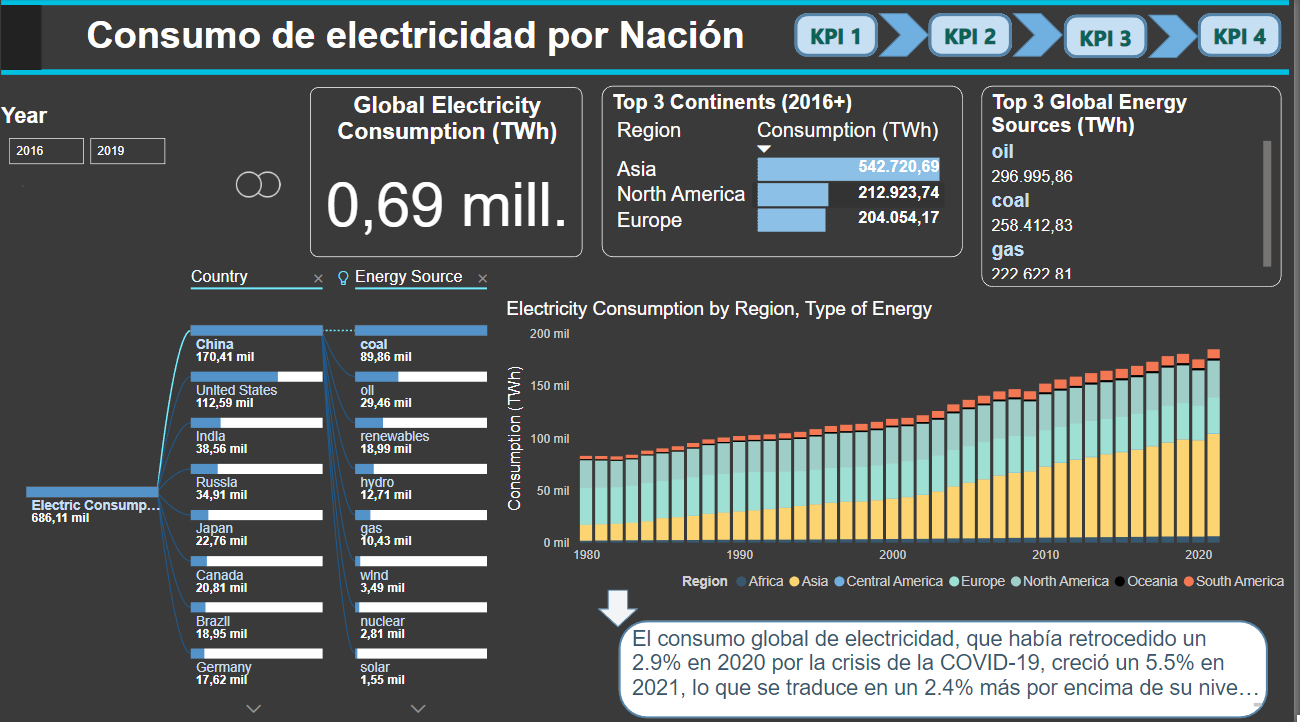

Layout of this report page (visuals, bound fields, positions):
{"tool":"powerbi","page":{"name":"OBJ4","canvas":[1280,720],"ordinal":5},"visuals":[{"type":"image","box":[0,0,1280.3,84],"z":0},{"type":"shape","box":[614,616.7,640.2,96.4],"z":1000},{"type":"decompositionTreeVisual","fields":{"Analyze":["Sum(source_country_electricity.consumptionElectricity)"],"ExplainBy":["country.country","source_energy.source"]},"box":[0,253.7,530.6,465.9],"z":2000},{"type":"textbox","box":[622.5,622.5,631.2,84.6],"z":3000},{"type":"columnChart","title":"Electricity Consumption by Region, Type of Energy","fields":{"Category":["source_region_electricity.year"],"Y":["Sum(source_region_electricity.consumptionElectricity)"],"Series":["region.region"]},"box":[498.4,298.7,782,298.7],"z":4000},{"type":"multiRowCard","title":" Top 3 Global Energy Sources (TWh)","fields":{"Values":["Sum(source_country_electricity.consumptionElectricity)","source_energy.source"]},"box":[971.9,89.5,296,198.2],"z":5000},{"type":"pivotTable","title":"Top 3 Continents (2016+)","fields":{"Values":["Sum(source_region_electricity.consumptionElectricity)"],"Rows":["region.region"]},"box":[598.2,89,356.1,169.1],"z":6000},{"type":"card","title":"Global Electricity Consumption (TWh)","fields":{"Values":["Sum(source_country_electricity.consumptionElectricity)"]},"box":[309.8,90.8,268.8,167.3],"z":7000},{"type":"slicer","title":"Year","fields":{"Values":["source_country_electricity.year"]},"box":[0,107.4,301.5,107.4],"z":8000},{"type":"shape","title":"1","box":[787.1,18.5,82.5,43.3],"z":9000},{"type":"shape","box":[869.6,18.5,50.3,43.3],"z":10000},{"type":"shape","box":[1002.4,18.5,50.3,43.3],"z":11000},{"type":"shape","box":[1135.2,19.9,50.3,43.3],"z":12000},{"type":"shape","title":"1","box":[919.9,18.5,82.5,43.3],"z":13000},{"type":"shape","title":"1","box":[1052.7,19.2,82.5,43.3],"z":14000},{"type":"shape","title":"1","box":[1185.5,18.5,82.5,43.3],"z":15000},{"type":"actionButton","box":[787.1,19.2,82.5,44.7],"z":16000},{"type":"actionButton","box":[919.9,17.8,82.5,44.7],"z":17000},{"type":"actionButton","box":[1052.7,17.8,82.5,44.7],"z":18000},{"type":"actionButton","box":[1185.6,17.8,82.5,44.7],"z":19000},{"type":"textbox","box":[50.9,12.4,725.5,56.4],"z":20000},{"type":"shape","box":[593.3,586.5,39.9,37.2],"z":21000}]}

Visuals, with their boxes in screenshot pixels (x1, y1, x2, y2), scaled from the page's 1280x720 canvas onto the 1300x722 screenshot:
image: pyautogui.locateOnScreen(0, 0, 1299, 84)
shape: pyautogui.locateOnScreen(624, 618, 1274, 715)
decompositionTreeVisual - Sum(source_country_electricity.consumptionElectricity) x country.country: pyautogui.locateOnScreen(0, 254, 539, 721)
textbox: pyautogui.locateOnScreen(632, 624, 1273, 709)
"Electricity Consumption by Region, Type of Energy" columnChart: pyautogui.locateOnScreen(506, 300, 1299, 599)
" Top 3 Global Energy Sources (TWh)" multiRowCard: pyautogui.locateOnScreen(987, 90, 1288, 288)
"Top 3 Continents (2016+)" pivotTable: pyautogui.locateOnScreen(608, 89, 969, 259)
"Global Electricity Consumption (TWh)" card: pyautogui.locateOnScreen(315, 91, 588, 259)
"Year" slicer: pyautogui.locateOnScreen(0, 108, 306, 215)
"1" shape: pyautogui.locateOnScreen(799, 19, 883, 62)
shape: pyautogui.locateOnScreen(883, 19, 934, 62)
shape: pyautogui.locateOnScreen(1018, 19, 1069, 62)
shape: pyautogui.locateOnScreen(1153, 20, 1204, 63)
"1" shape: pyautogui.locateOnScreen(934, 19, 1018, 62)
"1" shape: pyautogui.locateOnScreen(1069, 19, 1153, 63)
"1" shape: pyautogui.locateOnScreen(1204, 19, 1288, 62)
actionButton: pyautogui.locateOnScreen(799, 19, 883, 64)
actionButton: pyautogui.locateOnScreen(934, 18, 1018, 63)
actionButton: pyautogui.locateOnScreen(1069, 18, 1153, 63)
actionButton: pyautogui.locateOnScreen(1204, 18, 1288, 63)
textbox: pyautogui.locateOnScreen(52, 12, 789, 69)
shape: pyautogui.locateOnScreen(603, 588, 643, 625)
